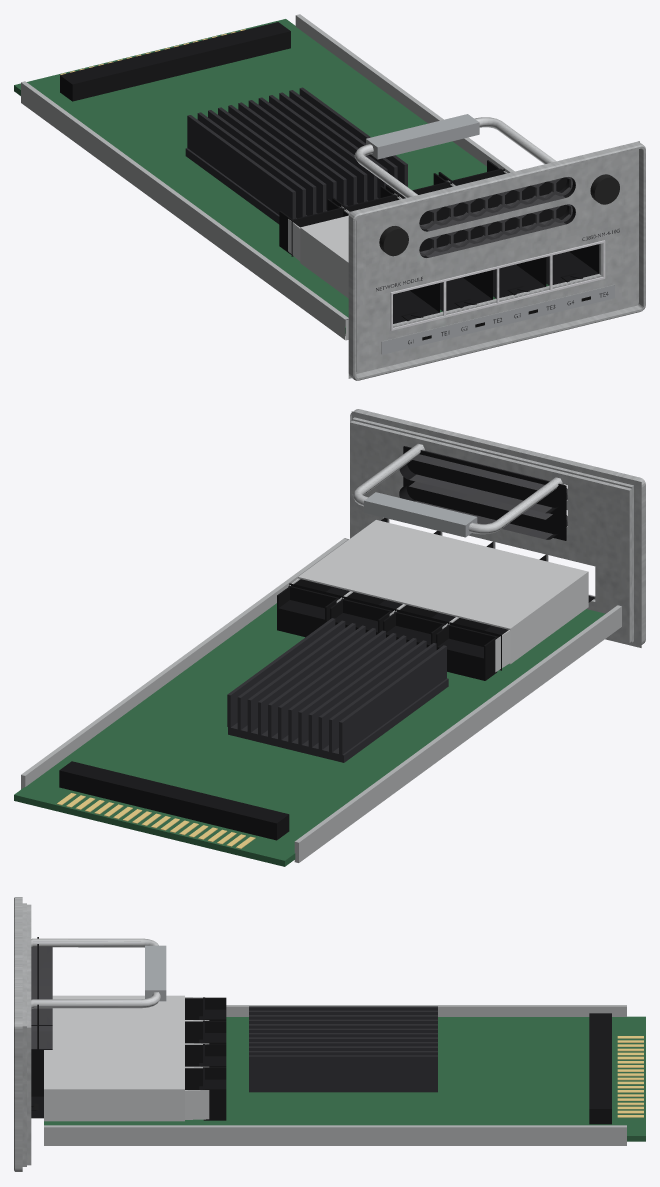
The picture shows the model from 3 angles, top to bottom: view 1: azimuth 30°, elevation 25°; view 2: azimuth 150°, elevation 25°; view 3: azimuth 270°, elevation 25°; orthographic projection. The views are drawn at different scales.
Visible parts, largest first — view 1: Body; view 2: Body; view 3: Body.
Boxes of the visible parts, left/top/right/bottom form: Body: left=14, top=14, right=645, bottom=380; Body: left=14, top=409, right=645, bottom=866; Body: left=14, top=897, right=645, bottom=1171.
Bounding box in the file's own units: 0.0805 × 0.0438 × 0.1672.
Materials: 15 (3 with a texture image).
